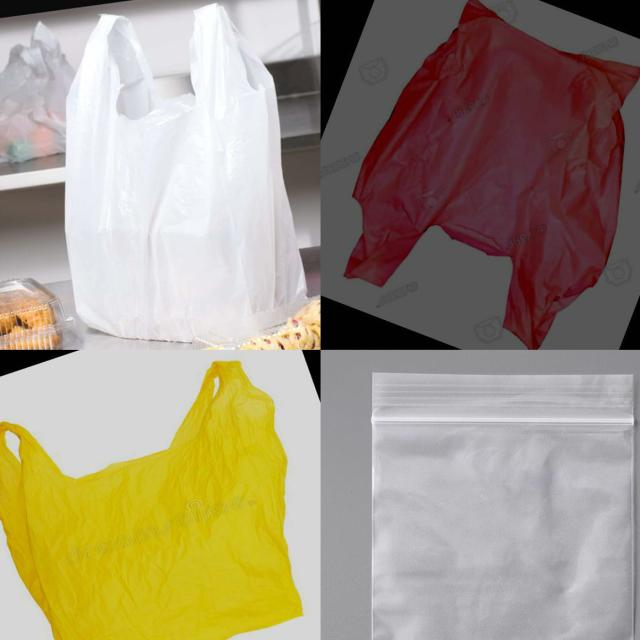plastik: (344, 0, 640, 348), (0, 361, 303, 640), (65, 4, 305, 342), (372, 373, 634, 640), (0, 22, 75, 162)
